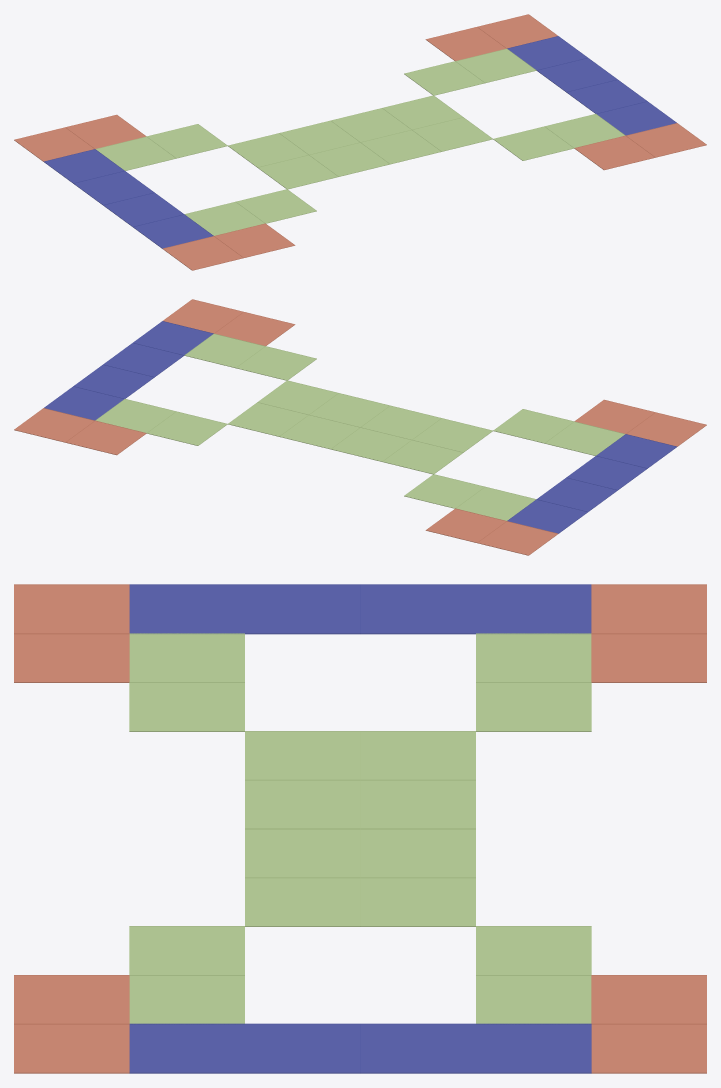
3 views of the same model, one above another, from view 1: azimuth 30°, elevation 25°; view 2: azimuth 150°, elevation 25°; view 3: azimuth 270°, elevation 25° (orthographic). The views are drawn at different scales.
Parts seen in each view (by area): view 1: polySurface410, polySurface412, polySurface361, polySurface386, polySurface368, polySurface416, polySurface377, polySurface409, polySurface384, polySurface371, polySurface374, polySurface414 (+20 smaller); view 2: polySurface410, polySurface412, polySurface355, polySurface393, polySurface367, polySurface411, polySurface354, polySurface416, polySurface373, polySurface376, polySurface413, polySurface370 (+20 smaller); view 3: polySurface357, polySurface384, polySurface387, polySurface391, polySurface360, polySurface385, polySurface390, polySurface392, polySurface354, polySurface355, polySurface356, polySurface361 (+20 smaller).
Boxes of the visible parts, x1,y1,x2,y2 form: polySurface410: (404,61,484,95); polySurface412: (493,126,574,160); polySurface361: (162,236,243,270); polySurface386: (574,135,655,170); polySurface368: (257,155,338,189); polySurface416: (147,124,227,158); polySurface377: (412,117,492,151); polySurface409: (455,48,536,83); polySurface384: (626,123,706,157); polySurface371: (309,142,390,176); polySurface374: (361,129,441,164); polySurface414: (236,189,316,223); polySurface410: (146,411,227,445); polySurface412: (236,346,316,380); polySurface355: (477,521,558,555); polySurface393: (65,420,146,455); polySurface367: (382,440,463,474); polySurface411: (184,333,265,368); polySurface354: (425,508,506,542); polySurface416: (404,474,484,508); polySurface373: (279,414,359,449); polySurface376: (228,402,308,436); polySurface413: (544,421,625,455); polySurface370: (330,427,411,461); polySurface357: (360,584,475,634); polySurface384: (14,1023,129,1073); polySurface387: (245,1023,360,1073); polySurface391: (476,1023,591,1073); polySurface360: (245,584,360,634); polySurface385: (129,1023,244,1073); polySurface390: (360,1023,475,1073); polySurface392: (591,1023,706,1073); polySurface354: (591,633,706,682); polySurface355: (591,584,706,633); polySurface356: (476,584,591,633); polySurface361: (14,584,129,633).
Bounding box in the file's own units: 10 × 0.01 × 6.
